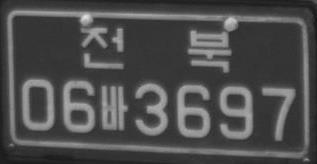0: (21, 78, 55, 130)
3: (135, 82, 169, 135)
6: (176, 83, 211, 139), (63, 78, 96, 133)
7: (261, 87, 296, 141)
9: (219, 85, 253, 139)
바: (100, 85, 129, 132)
전북_D: (81, 28, 231, 72)
